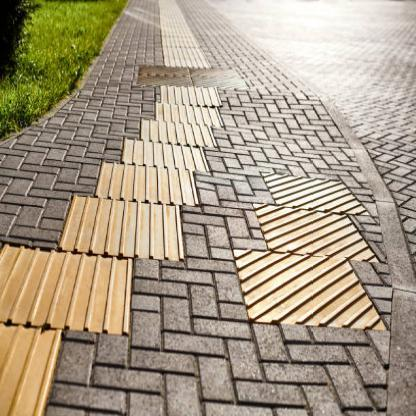podotacti: (0, 83, 225, 415), (230, 170, 388, 328)
